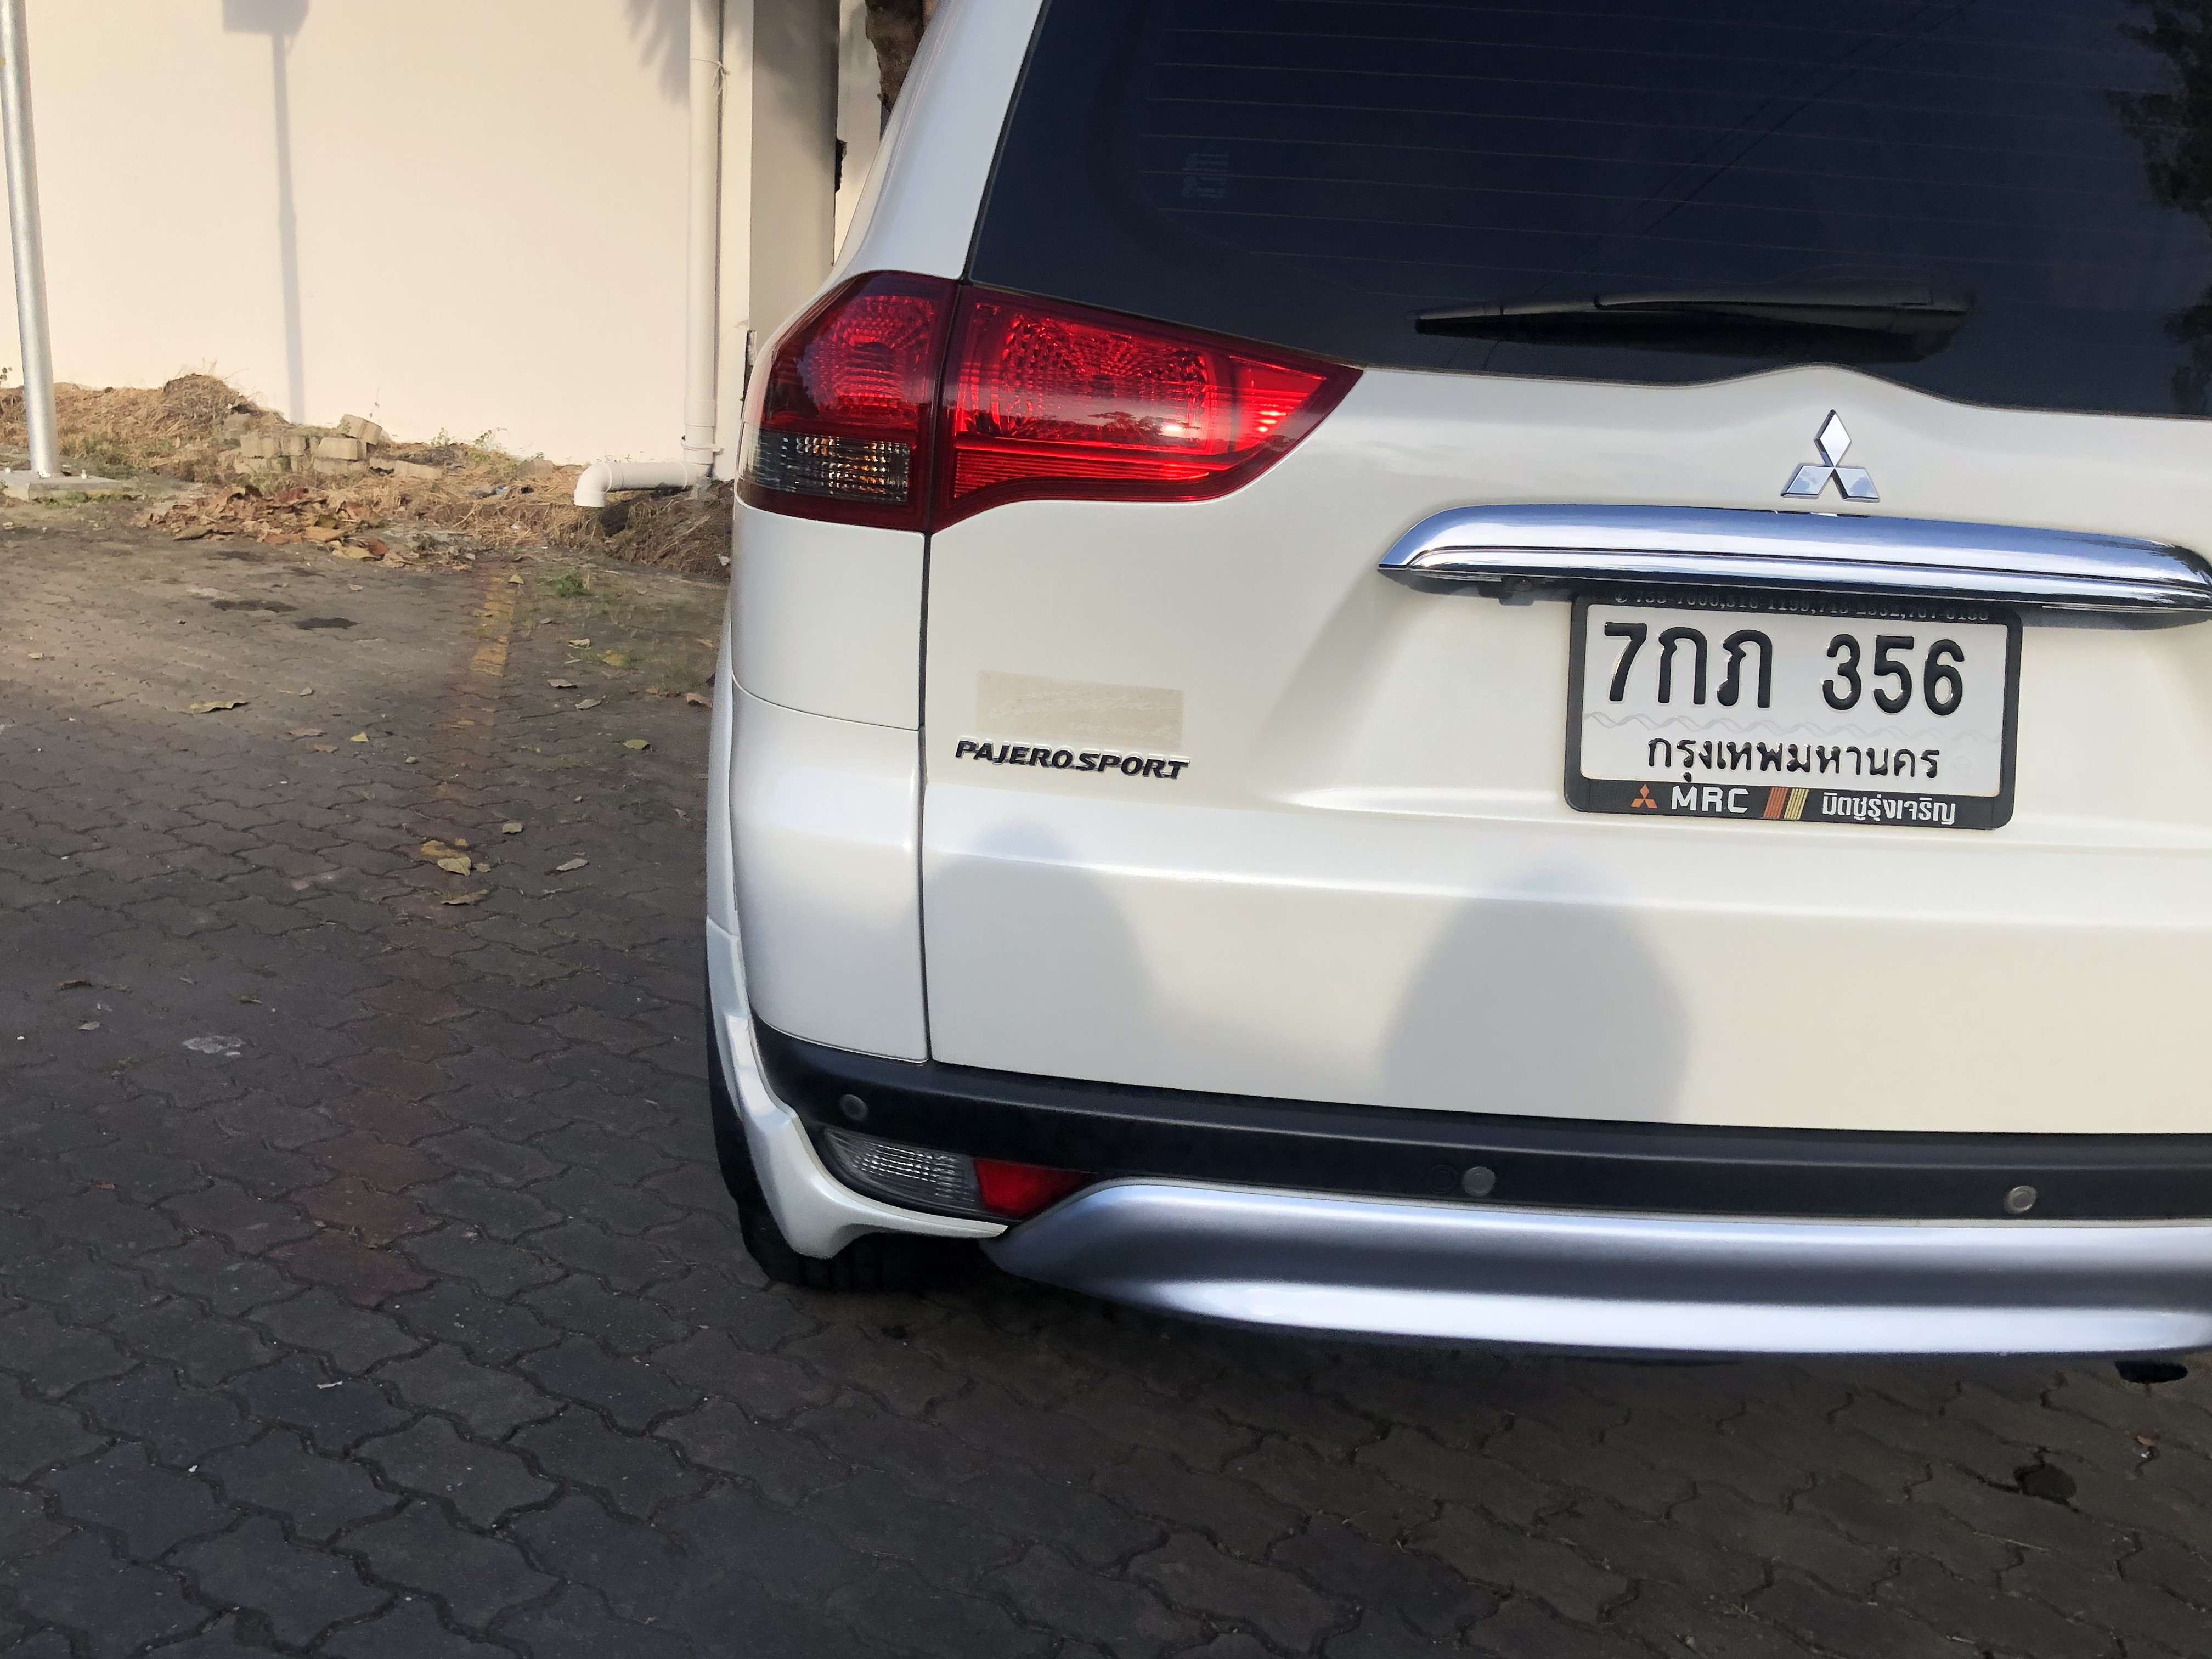in: (1583, 601, 2006, 802)
out: (1562, 580, 2022, 831)
